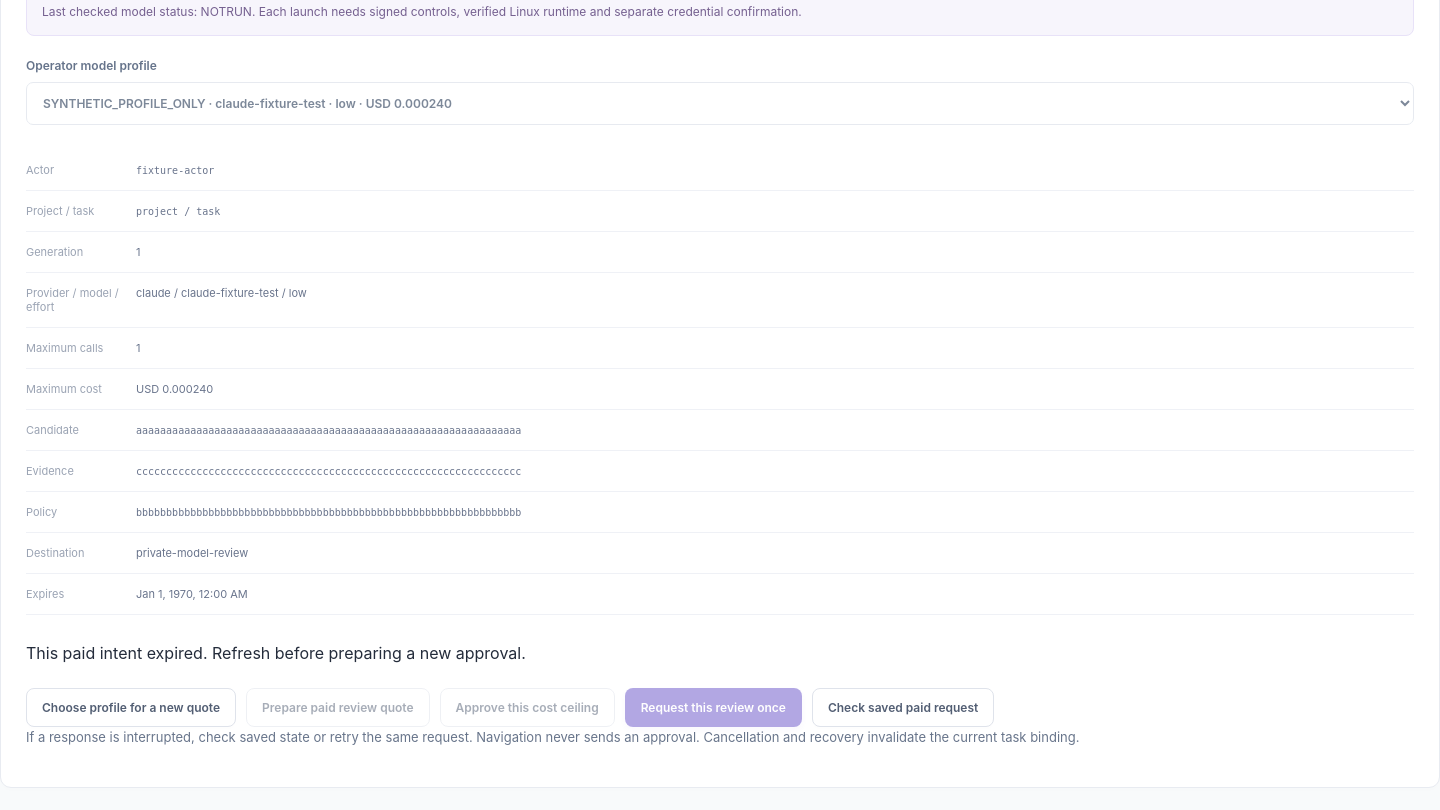
Test: keeps an expired intent disabled and clears private content on revoked authority
The image size is (1440, 810).
(page scrolled)
Check: the text "This paid intent expired. Refresh before preparing a new approval." is shown, box x1=26 y1=643 x2=526 y2=663
Check: the button "Approve this cost ceiling" is disabled, box x1=440 y1=688 x2=615 y2=727
Click the button "Choose profile for a new quote": point(131, 708) x1=26 y1=688 x2=236 y2=727
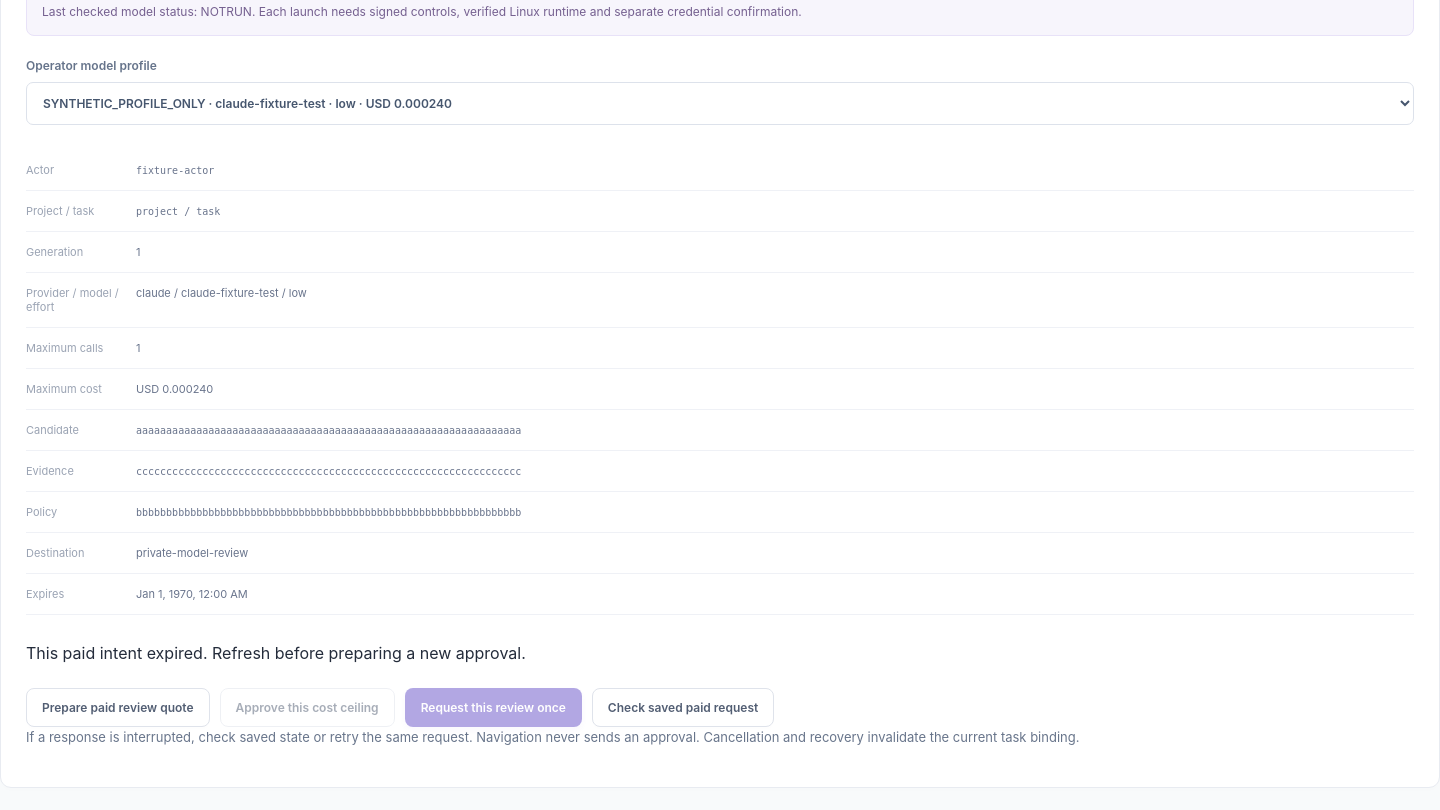
Click the button "Prepare paid review quote": point(118, 708) x1=26 y1=688 x2=210 y2=727
(page scrolled)
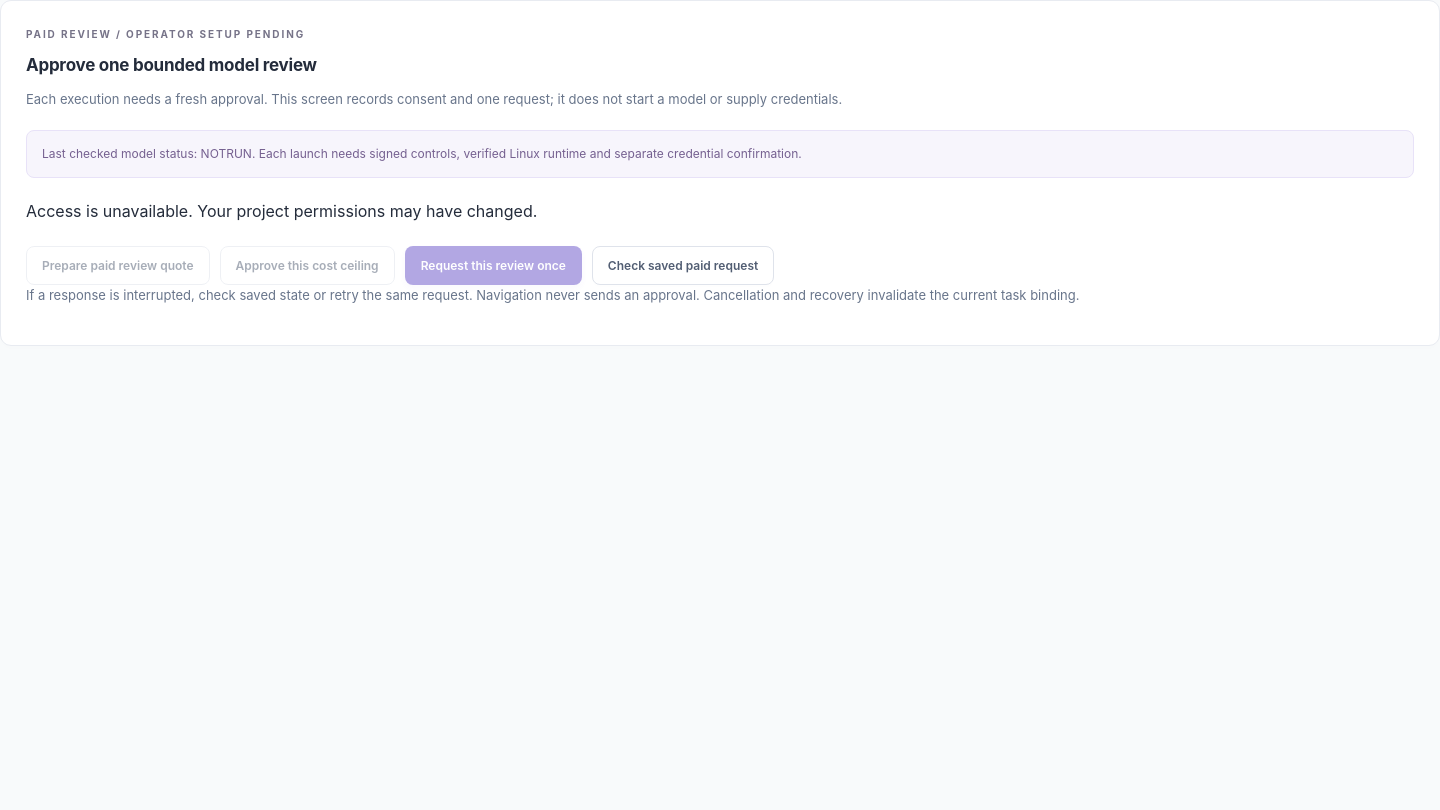
Check: the text "fixture-actor" is gone
